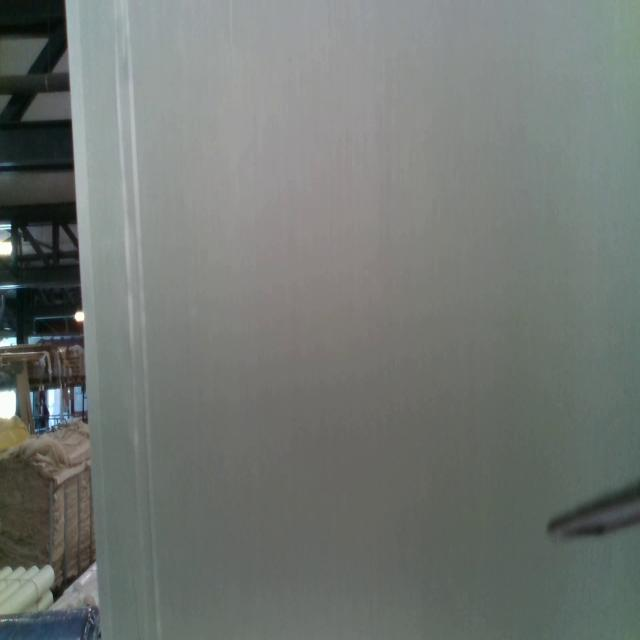crease: (114, 0, 161, 640)
